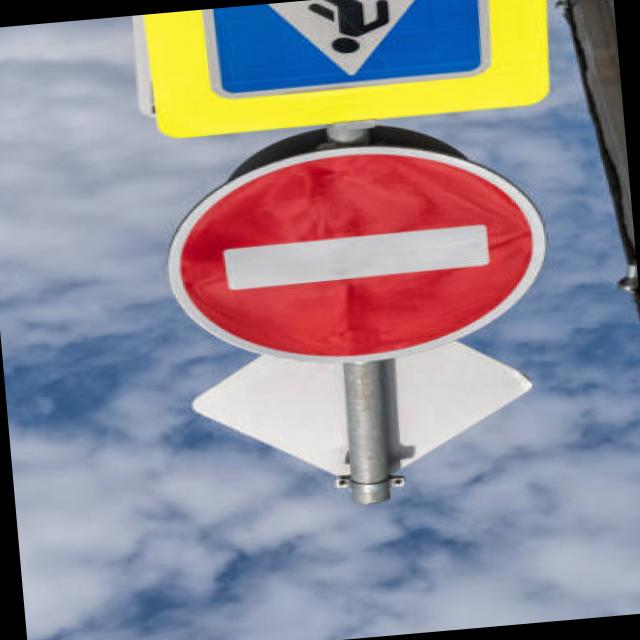crosswalk: (202, 0, 503, 110)
do_not_enter: (148, 120, 570, 390)
